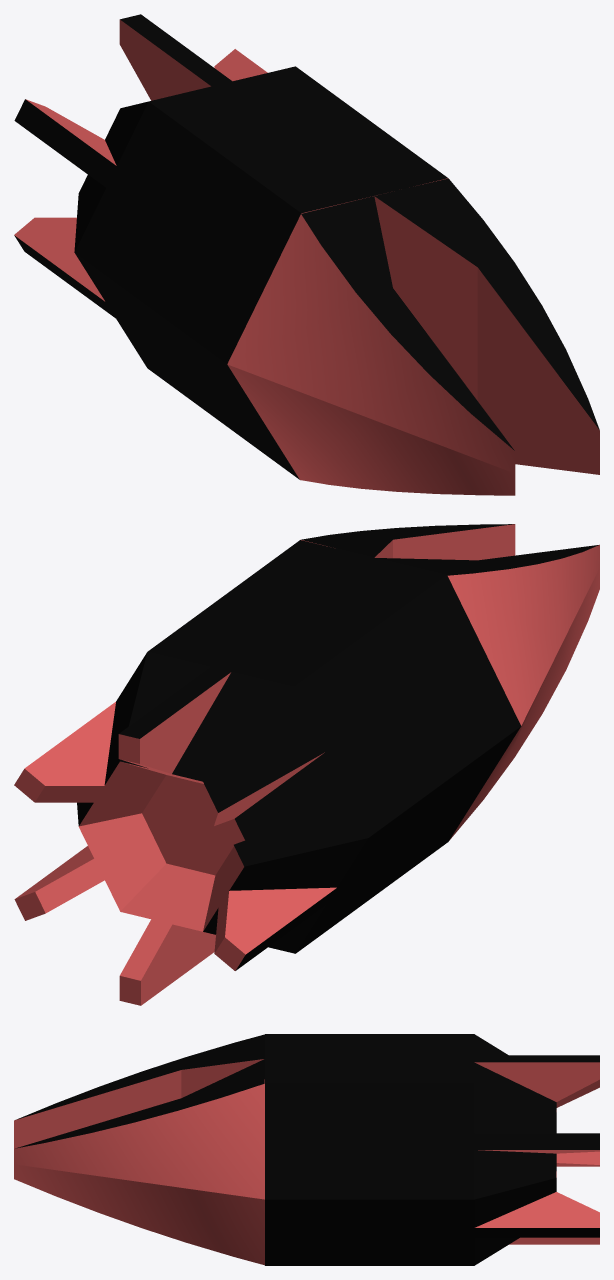
File: bullet v2.fbx
3 renders of one model, top to bottom at view 1: azimuth 30°, elevation 25°; view 2: azimuth 150°, elevation 25°; view 3: azimuth 270°, elevation 25°, orthographic. The views are drawn at different scales.
Visible parts, largest first — view 1: Body1; view 2: Body1; view 3: Body1.
Boxes of the visible parts, bbox=[...] form: Body1: bbox=[14, 14, 599, 495]; Body1: bbox=[14, 524, 599, 1005]; Body1: bbox=[14, 1034, 599, 1265].
Size of the model in its own units: 278 by 241 by 700.
